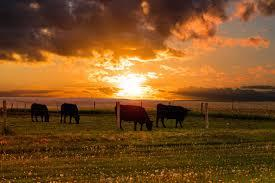cow: (114, 104, 157, 131), (155, 104, 193, 129), (58, 102, 83, 126), (29, 102, 51, 123)
